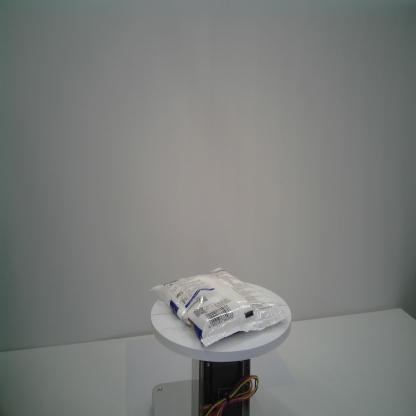Seasoner: (148, 266, 288, 347)
